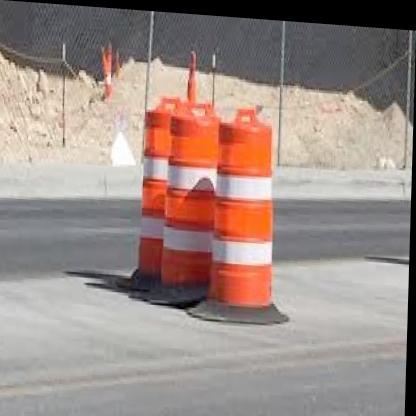obstacle: (212, 114, 278, 307), (162, 96, 221, 289)
